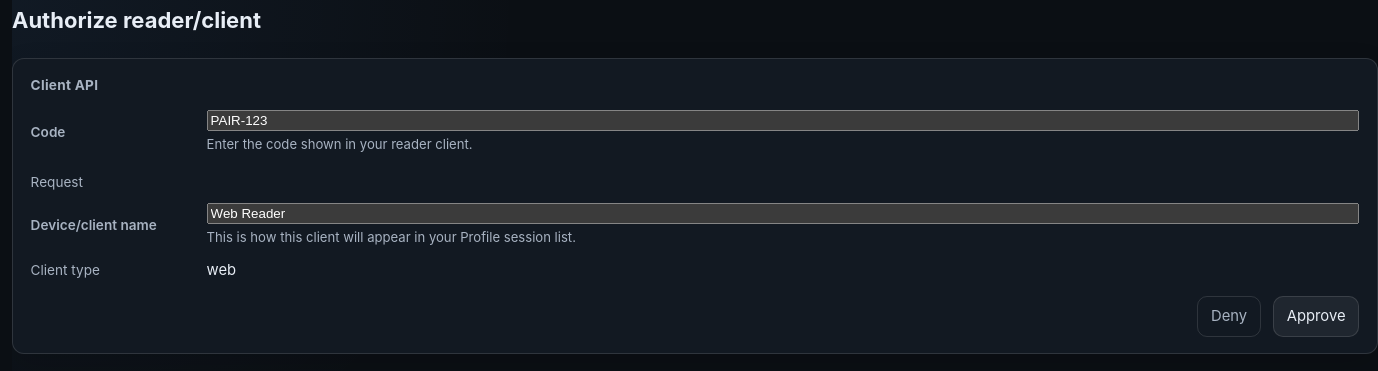
Scenario: ClientPairingOrchestrator › loads the URL request and approves the displayed client
This screenshot has width=1378, height=371.
Expected: the field labelled "Device/client name" holds "Web Reader", [207,203,1359,224]
Click the button "Approve" at point(1316, 317), box [1273,296,1359,338]
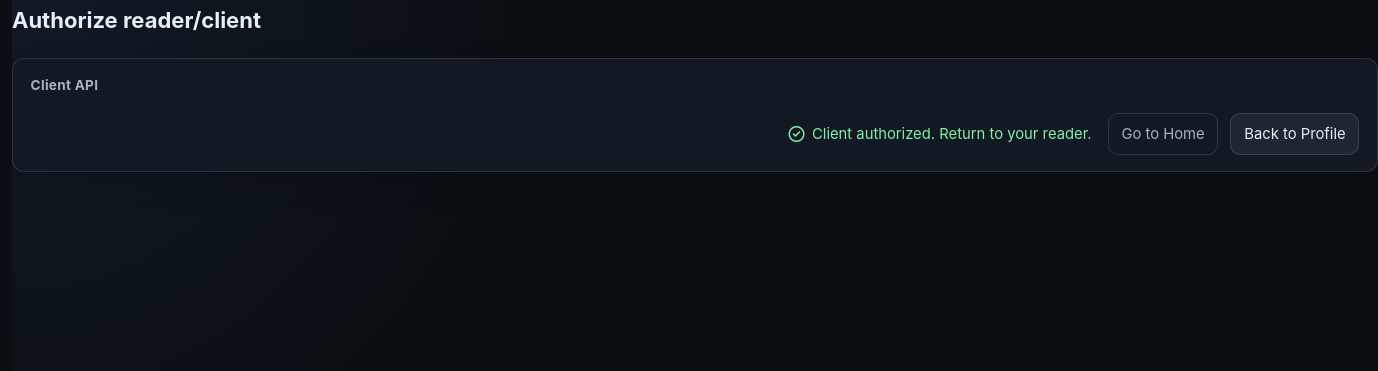
Result: the form is gone
